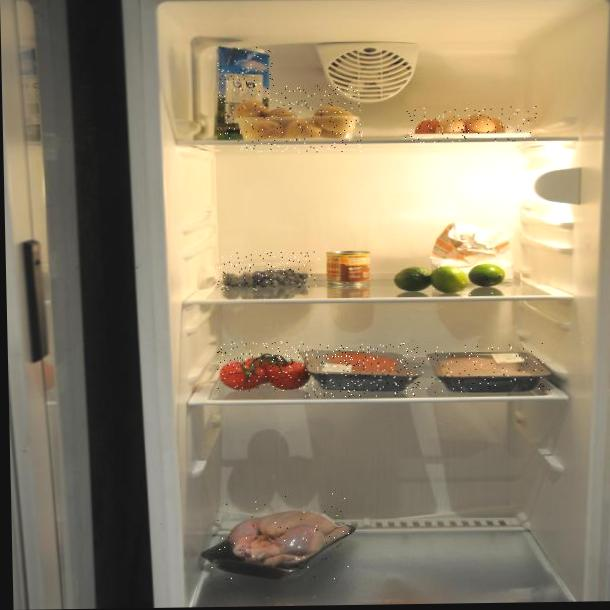chicken: (209, 493, 350, 585)
eggs: (405, 106, 537, 143)
lime: (405, 265, 504, 299)
meat: (303, 343, 421, 398), (422, 343, 550, 393)
milk: (217, 46, 275, 143)
olive: (215, 250, 321, 291)
potatoes: (235, 85, 363, 154)
tomatoes: (217, 341, 308, 392)
